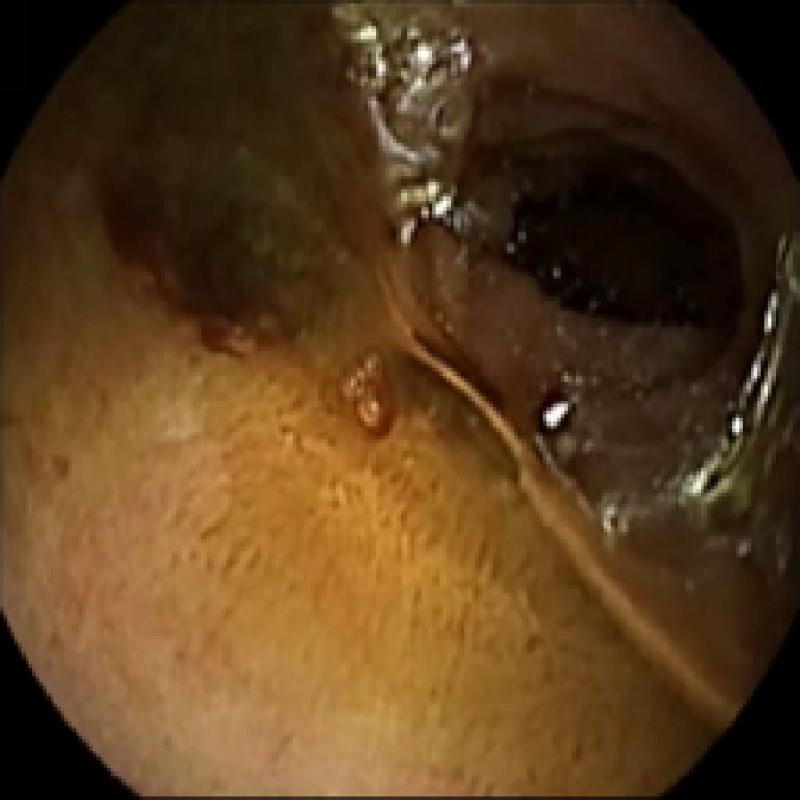bleeding: (90, 145, 281, 366), (507, 157, 739, 336), (415, 336, 576, 446)
